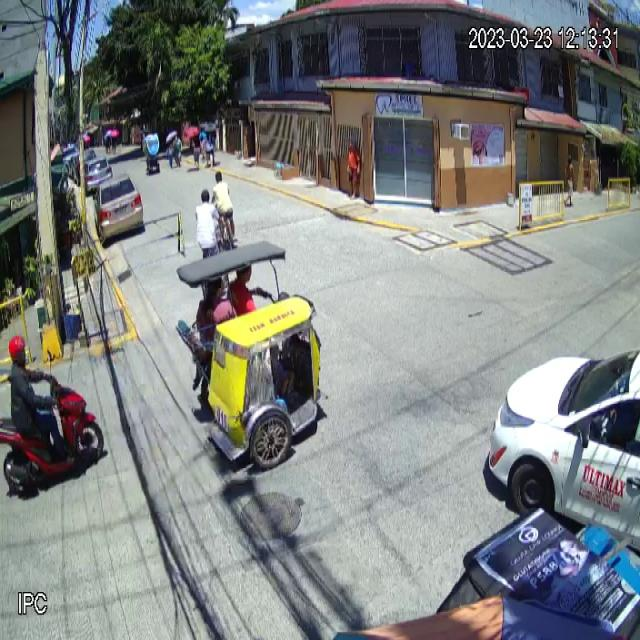Motorcycle: (0, 347, 104, 497)
Tricycle: (176, 240, 322, 472)
